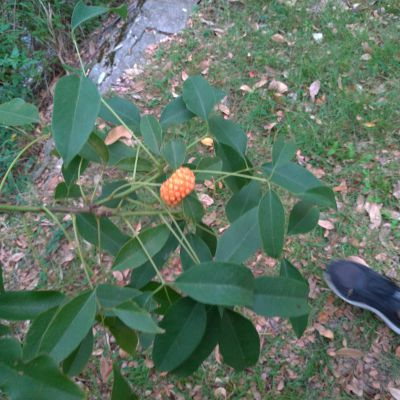eggs: (155, 162, 202, 206)
